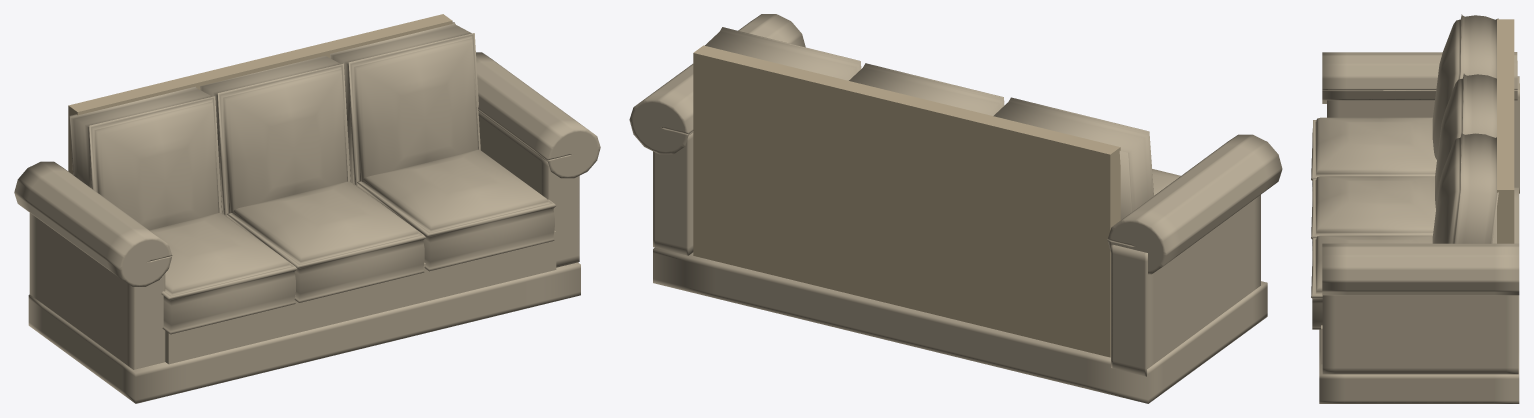
The model's file is couch.obj.
The picture shows the model from 3 angles, left to right: view 1: azimuth 30°, elevation 25°; view 2: azimuth 150°, elevation 25°; view 3: azimuth 270°, elevation 25°; orthographic projection. The views are drawn at different scales.
Visible parts, largest first — view 1: Box6, cushion4, cushion3, cushion5, cushion1, cushion, Box5, cushion2, Box4, Circle1, Circle, Box7 (+1 smaller); view 2: Box7, Box6, Box4, Circle1, cushion5, Circle, Box3, cushion4, cushion3; view 3: Box3, Circle, cushion, cushion2, Box6, cushion4, Circle1, Box7, cushion5, cushion3, Box4, cushion1.
Boxes of the visible parts, <box> form: Box6: <box>28,262,580,403</box>; cushion4: <box>330,22,480,186</box>; cushion3: <box>200,56,350,216</box>; cushion5: <box>69,86,222,230</box>; cushion1: <box>357,149,556,271</box>; cushion: <box>227,181,426,302</box>; Box5: <box>165,231,556,364</box>; cushion2: <box>150,212,297,334</box>; Box4: <box>29,213,165,369</box>; Circle1: <box>14,161,172,286</box>; Circle: <box>476,52,600,178</box>; Box7: <box>68,14,452,174</box>; Box7: <box>693,45,1120,357</box>; Box6: <box>653,247,1267,403</box>; Box4: <box>1111,195,1260,376</box>; Circle1: <box>1107,134,1282,274</box>; cushion5: <box>993,97,1153,219</box>; Circle: <box>629,14,805,154</box>; Box3: <box>653,132,693,255</box>; cushion4: <box>705,27,861,80</box>; cushion3: <box>849,63,1004,115</box>; Box3: <box>1322,295,1518,374</box>; Circle: <box>1322,243,1519,295</box>; cushion: <box>1311,176,1435,250</box>; cushion2: <box>1311,117,1436,190</box>; Box6: <box>1319,187,1519,403</box>; cushion4: <box>1432,132,1498,243</box>; Circle1: <box>1322,52,1517,103</box>; Box7: <box>1497,19,1514,243</box>; cushion5: <box>1432,14,1498,159</box>; cushion3: <box>1435,73,1496,208</box>; Box4: <box>1327,76,1519,193</box>; cushion1: <box>1311,235,1432,329</box>.
Bounding box in the file's own units: 3.85 × 1.64 × 1.55.
